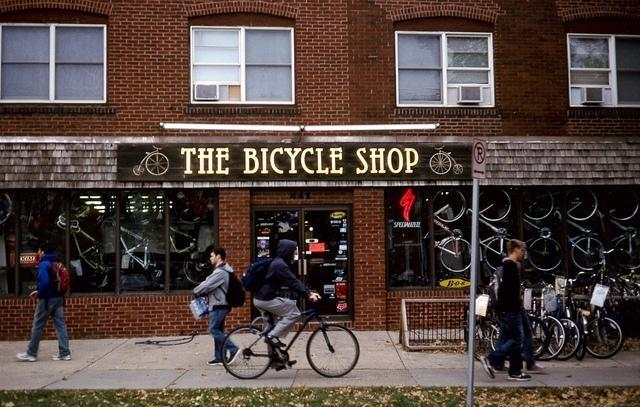bicycle: (220, 294, 360, 380), (554, 186, 604, 271), (466, 188, 513, 273), (596, 183, 640, 272), (522, 184, 564, 270), (432, 187, 472, 273), (554, 272, 588, 348), (584, 305, 623, 358), (522, 317, 550, 362), (556, 318, 580, 360), (475, 319, 499, 361)
